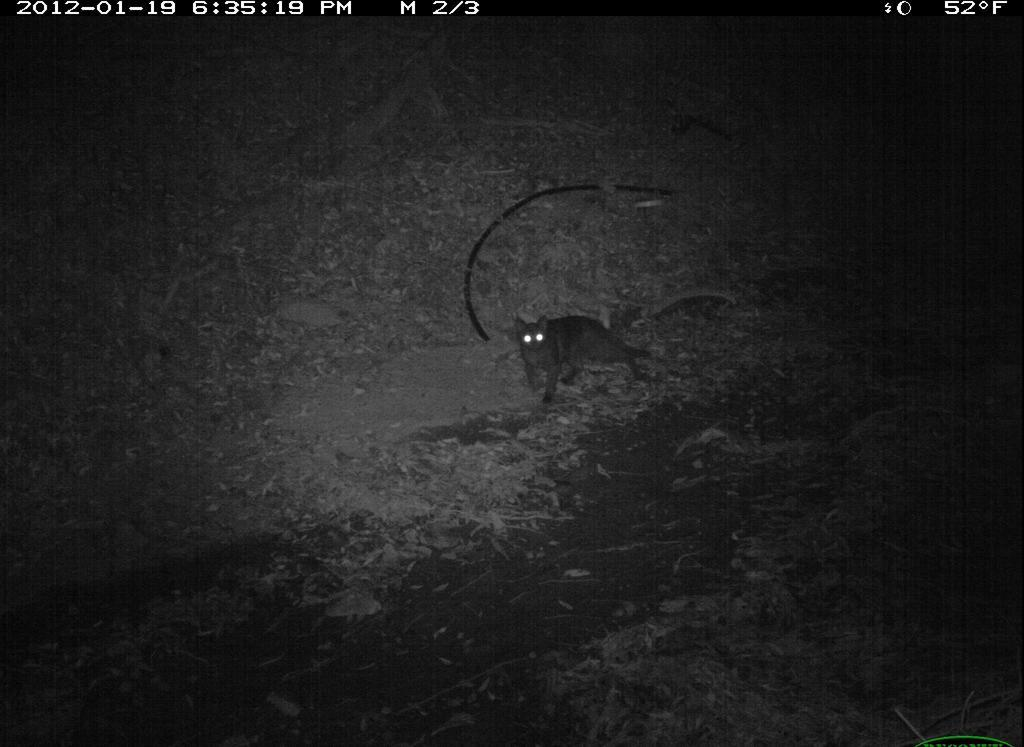cat: (510, 308, 662, 413)
